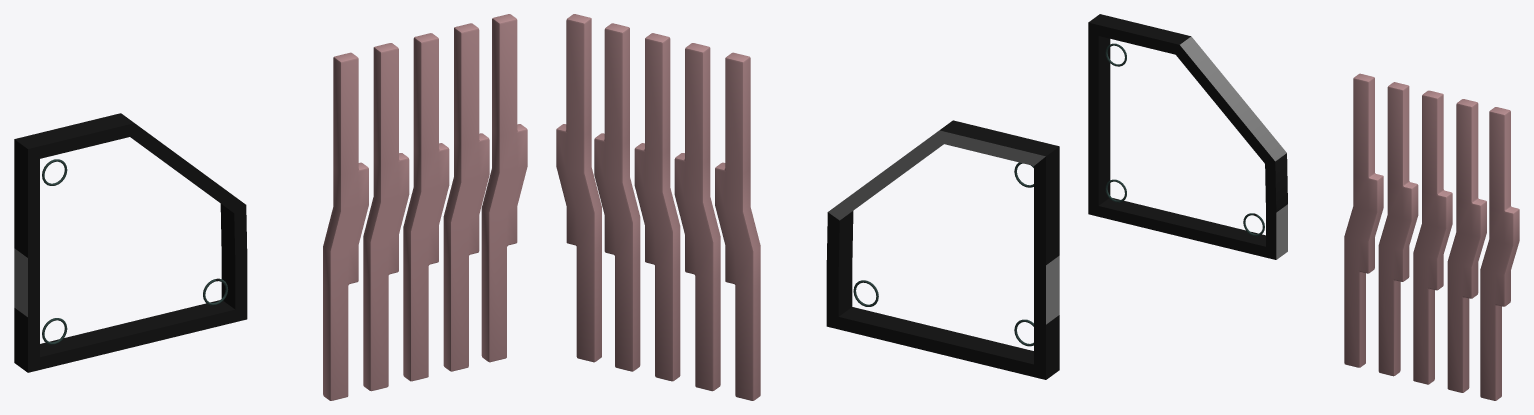
The model's file is trucs au mur.fbx.
3 renders of one model, left to right at view 1: azimuth 30°, elevation 25°; view 2: azimuth 150°, elevation 25°; view 3: azimuth 330°, elevation 25°, orthographic. The views are drawn at different scales.
Parts seen in each view (by area): view 1: Box022; view 2: Box022; view 3: Box022.
Boxes of the visible parts, left/top/right/bottom form: Box022: left=14, top=14, right=527, bottom=400; Box022: left=556, top=14, right=1059, bottom=400; Box022: left=1088, top=14, right=1519, bottom=400.
Bounding box in the file's own units: 299 × 194 × 16.35.
